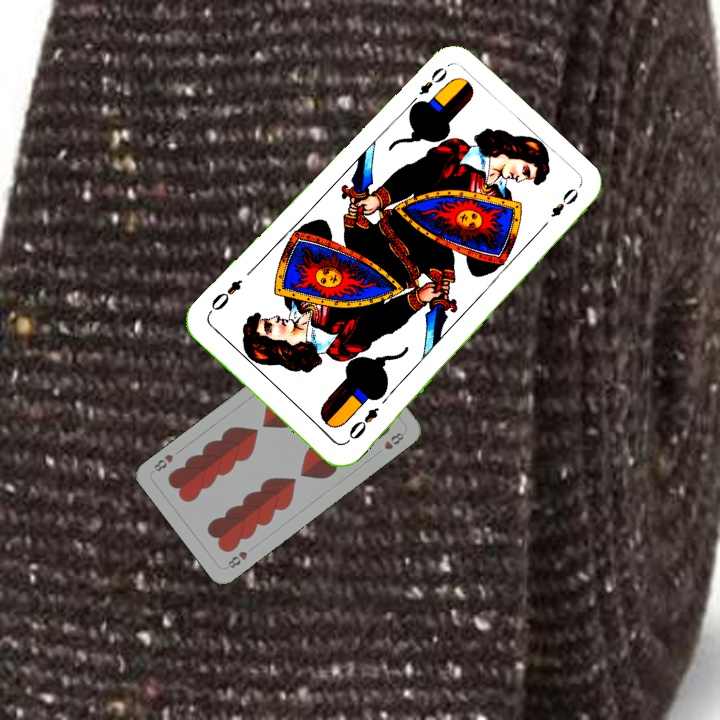EO: (405, 62, 450, 110), (341, 403, 382, 446)
H8: (222, 547, 250, 571)
